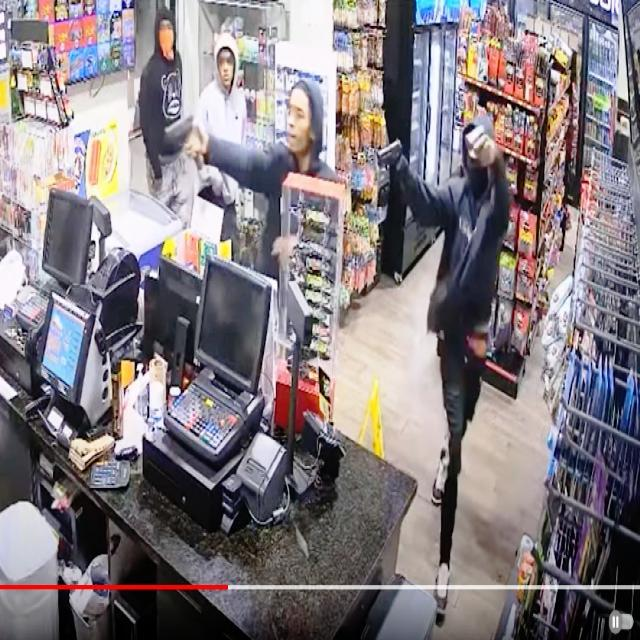Gun: (367, 130, 419, 188), (156, 106, 214, 156), (457, 112, 498, 161)
